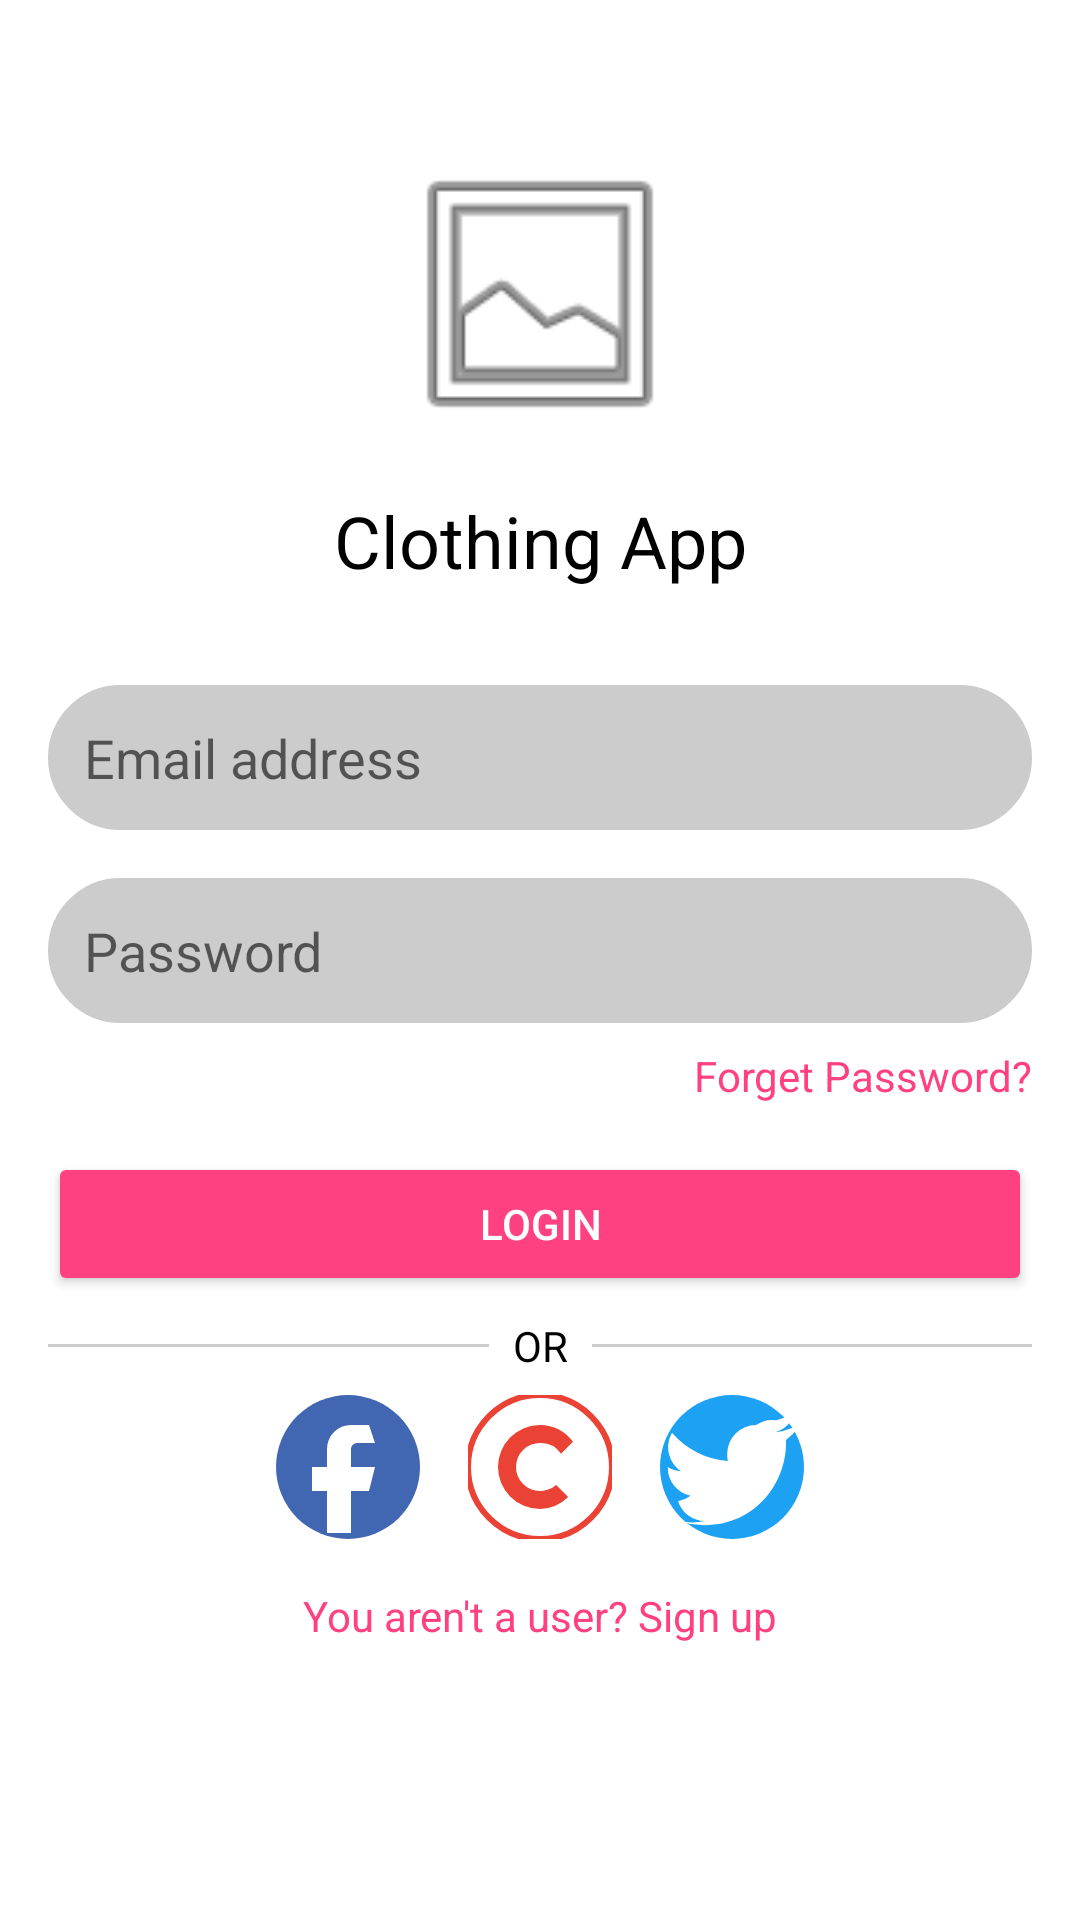

Locate icon controls on the screen. Image size 1080×1920, boxes as (x1, y1, x2, y2).
gallery: (427, 181, 653, 407)
